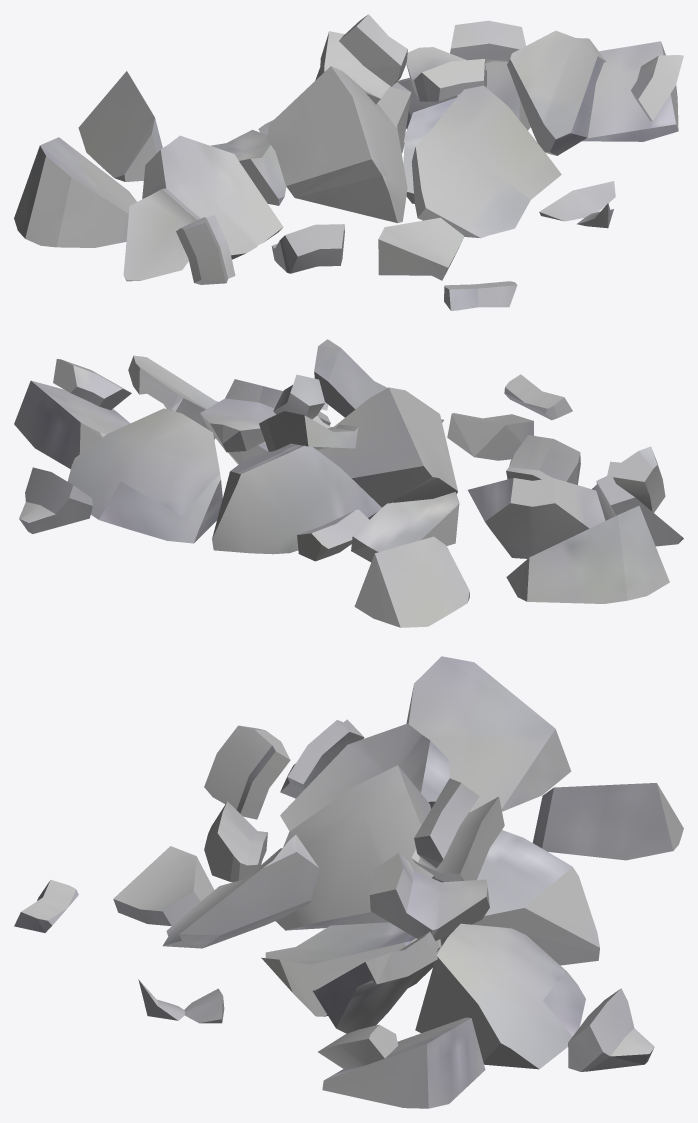
File: prop-qp-vaserubblemedium.glb
The picture shows the model from 3 angles, top to bottom: view 1: azimuth 30°, elevation 25°; view 2: azimuth 150°, elevation 25°; view 3: azimuth 270°, elevation 25°; orthographic projection. The views are drawn at different scales.
Visible parts, largest first — view 1: Vase_1_001_cell_099; view 2: Vase_1_001_cell_099; view 3: Vase_1_001_cell_099.
Boxes of the visible parts, x1,y1,x2,y2 form: Vase_1_001_cell_099: (14, 14, 683, 310); Vase_1_001_cell_099: (14, 339, 683, 627); Vase_1_001_cell_099: (14, 656, 683, 1108).
Bounding box in the file's own units: 0.7969 × 0.1746 × 0.5984.
Materials: 1 (1 with a texture image).
